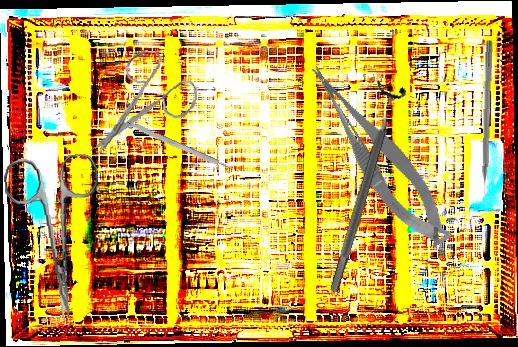Fixation Ring: (317, 79, 410, 297)
Iris Scissors: (2, 152, 110, 323), (88, 45, 202, 168)
Micro Scissor: (302, 48, 458, 260)
Pusher: (478, 39, 493, 208)
Scalpel Handle: (125, 119, 234, 174)
